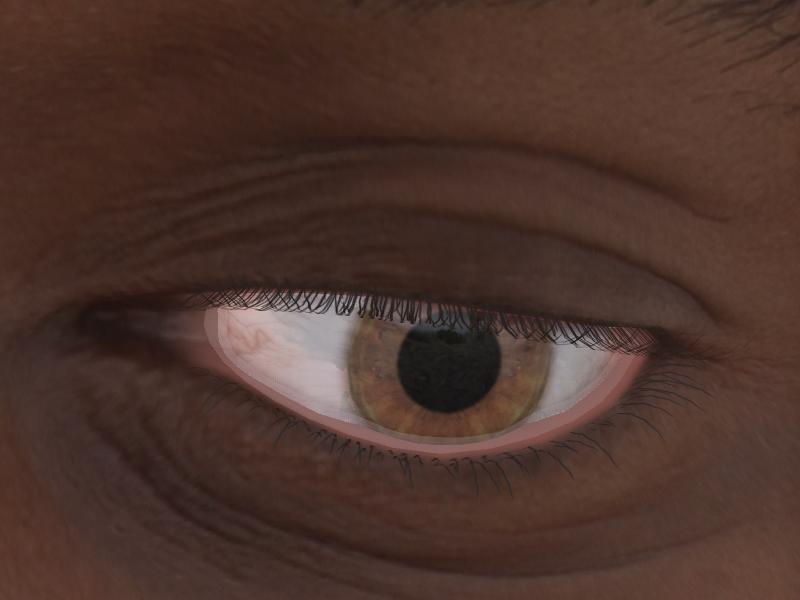eye: (350, 295, 558, 435)
